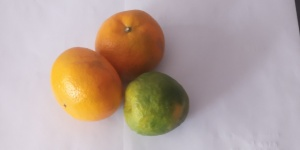BAD: (51, 46, 122, 124), (97, 6, 164, 81), (121, 71, 188, 135)
